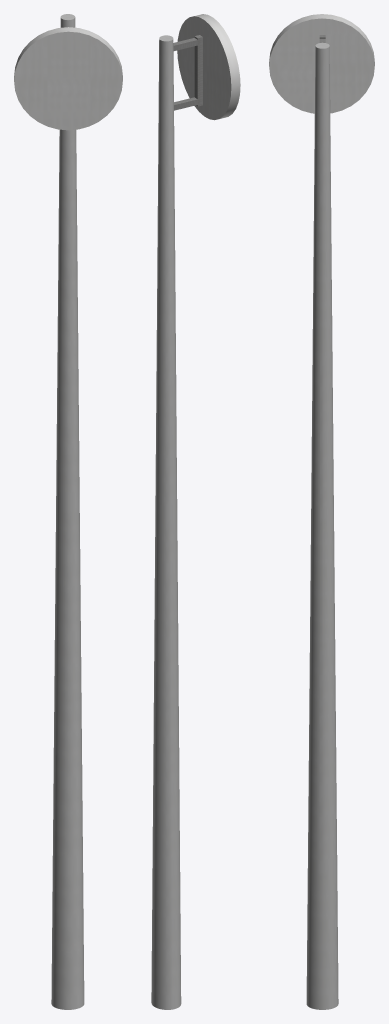
Rendered from tower-microwave-dish-2x20-cbj_LOD00.gltf.
The picture shows the model from 3 angles, left to right: view 1: azimuth 90°, elevation 25°; view 2: azimuth 210°, elevation 25°; view 3: azimuth 270°, elevation 25°; orthographic projection. The views are drawn at different scales.
Visible parts, largest first — view 1: post0; view 2: post0; view 3: post0.
Boxes of the visible parts, x1=… form: post0: x1=14, y1=14, x2=122, y2=1009; post0: x1=151, y1=14, x2=240, y2=1009; post0: x1=269, y1=14, x2=374, y2=1009.
Size of the model in its own units: 1.31 by 20.18 by 2.
